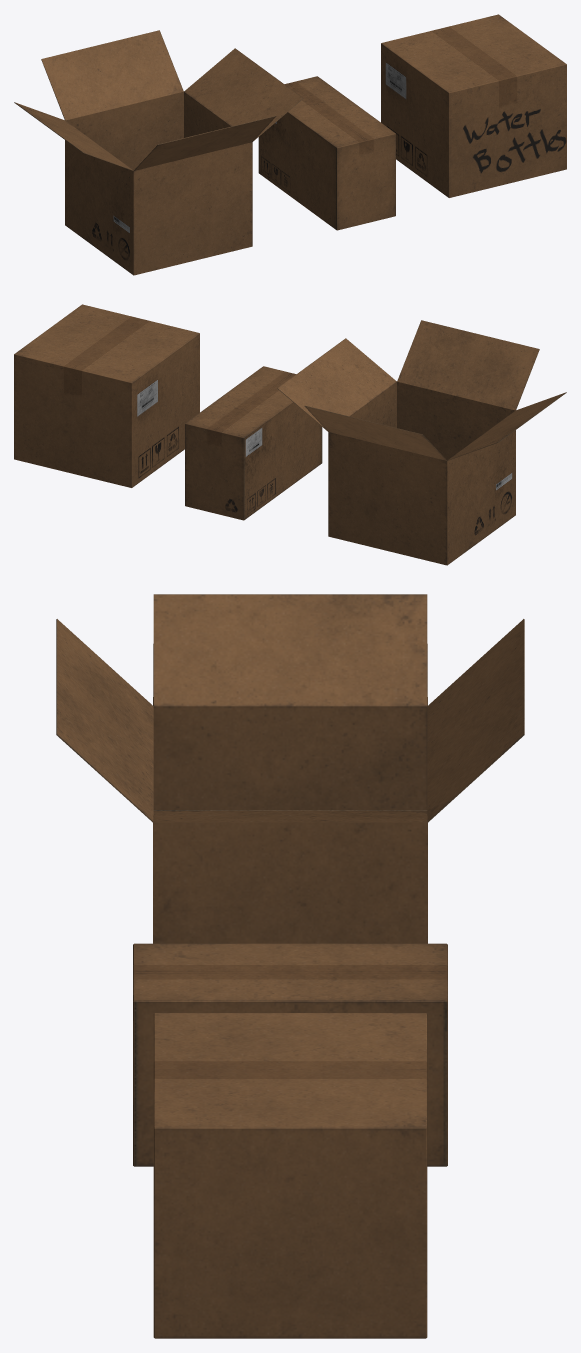
3 renders of one model, top to bottom at view 1: azimuth 30°, elevation 25°; view 2: azimuth 150°, elevation 25°; view 3: azimuth 270°, elevation 25°, orthographic. The views are drawn at different scales.
Parts seen in each view (by area): view 1: BoxOpen_, Box_big_, Box_medium_; view 2: BoxOpen_, Box_big_, Box_medium_; view 3: BoxOpen_, Box_big_, Box_medium_.
Boxes of the visible parts, box(x1,y1,x2,y2) form: BoxOpen_: box(14, 30, 303, 275); Box_big_: box(381, 14, 566, 197); Box_medium_: box(258, 76, 395, 230); BoxOpen_: box(277, 320, 566, 565); Box_big_: box(14, 304, 199, 487); Box_medium_: box(185, 366, 322, 520); BoxOpen_: box(56, 594, 524, 943); Box_big_: box(153, 1013, 427, 1338); Box_medium_: box(133, 943, 447, 1166).
Size of the model in its own units: 197 by 57.59 by 82.22.
Materials: 1 (1 with a texture image).
